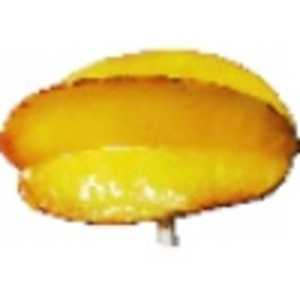carambola: (1, 47, 300, 246)
